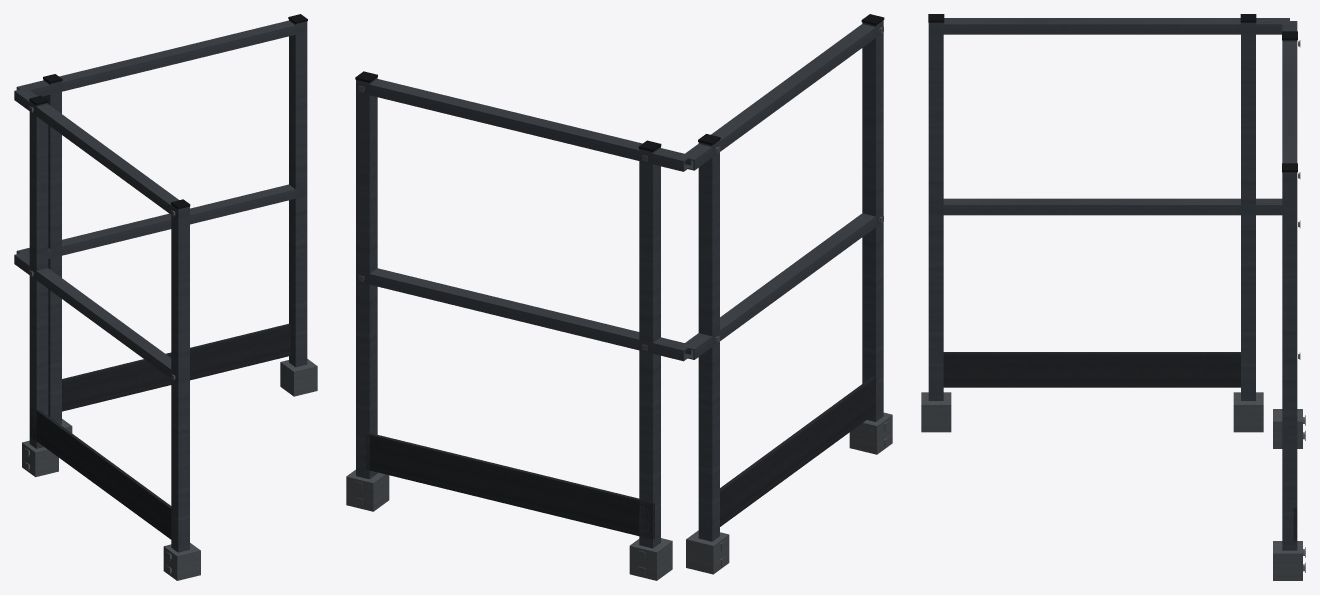
Rendered from safety_railings_corner_1x1.obj.
3 views of the same model, side by side, from view 1: azimuth 30°, elevation 25°; view 2: azimuth 150°, elevation 25°; view 3: azimuth 270°, elevation 25° (orthographic). The views are drawn at different scales.
Visible parts, largest first — view 1: part_157, part_378, part_225, part_73, part_279, part_19, part_57, part_234, part_288, part_151, part_127, part_142 (+15 smaller); view 2: part_156, part_378, part_284, part_66, part_12, part_230, part_234, part_57, part_3, part_288, part_144, part_120 (+13 smaller); view 3: part_379, part_62, part_241, part_295, part_373, part_349, part_340, part_364, part_142, part_247, part_301, part_80 (+7 smaller).
Boxes of the visible parts, x1,y1,x2,y2 form: part_157: (62,325,290,411); part_378: (30,406,176,539); part_225: (178,206,189,552); part_73: (296,21,306,366); part_279: (36,103,48,448); part_19: (51,81,61,424); part_57: (289,19,295,366); part_234: (172,205,177,551); part_288: (30,101,35,448); part_151: (51,26,300,92); part_127: (50,188,306,256); part_142: (59,20,295,82); part_156: (363,434,652,539); part_378: (713,377,876,526); part_284: (698,142,712,541); part_66: (357,80,368,478); part_12: (640,149,651,548); part_230: (862,22,875,421); part_234: (876,20,883,421); part_57: (369,77,377,478); part_3: (653,146,660,548); part_288: (713,140,719,540); part_144: (356,82,652,162); part_120: (369,275,652,352); part_379: (943,353,1240,387); part_62: (1282,172,1297,550); part_241: (930,22,942,400); part_295: (1242,22,1254,400); part_373: (928,25,1255,33); part_349: (929,206,1255,214); part_340: (943,198,1240,204); part_364: (943,18,1240,24); part_142: (1282,41,1297,163); part_247: (921,405,951,432); part_301: (1233,405,1263,432); part_80: (1273,553,1302,580).
Bounding box in the file's own units: 1.02 × 1.2 × 1.02.
2 materials, 2 textured.
